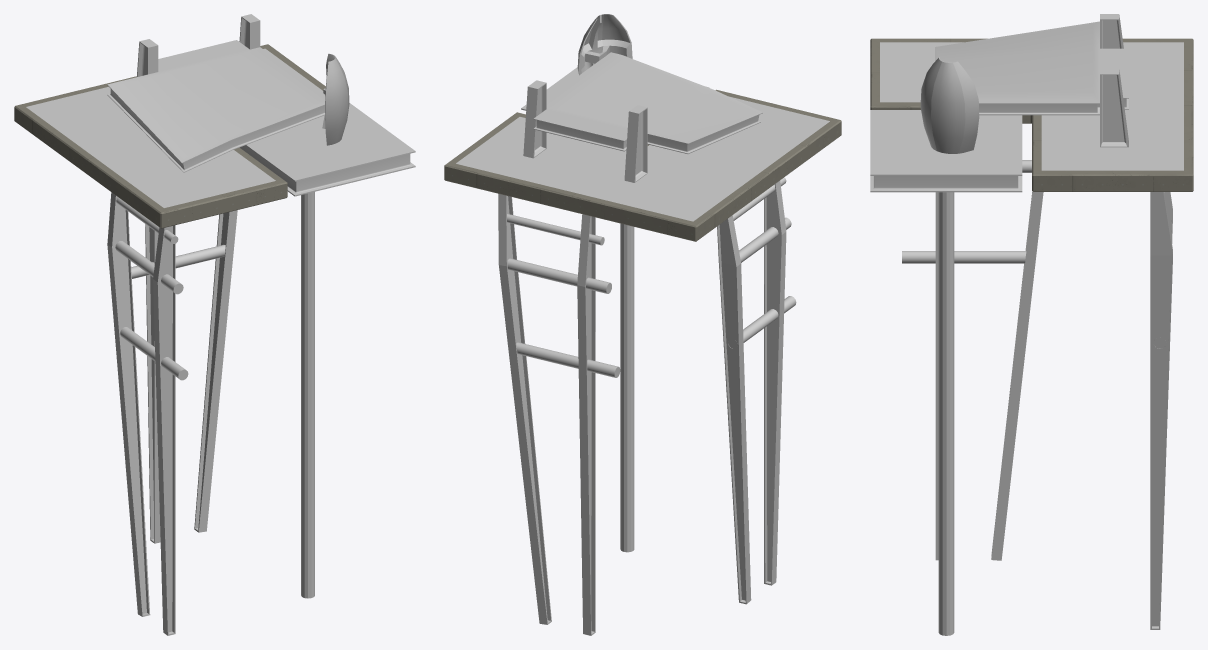
Rendered from PlatformStack1.fbx.
The picture shows the model from 3 angles, left to right: view 1: azimuth 30°, elevation 25°; view 2: azimuth 150°, elevation 25°; view 3: azimuth 270°, elevation 25°; orthographic projection. The views are drawn at different scales.
Visible parts, largest first — view 1: PlatformStack1_Floor, Platform, Canopy03, Pilar02, Pilar01; view 2: PlatformStack1_Floor, Platform, Canopy03, Pilar02, Pilar01; view 3: PlatformStack1_Floor, Platform, Canopy03, Pilar01, Pilar02.
Part boxes in pixels (x1,y1,x2,y2): PlatformStack1_Floor: (14, 44, 415, 635); Platform: (107, 40, 325, 172); Canopy03: (322, 53, 349, 145); Pilar02: (137, 39, 158, 76); Pilar01: (239, 14, 260, 49); PlatformStack1_Floor: (444, 67, 841, 635); Platform: (533, 52, 762, 153); Canopy03: (577, 14, 632, 75); Pilar02: (624, 105, 647, 182); Pilar01: (523, 80, 546, 158); PlatformStack1_Floor: (870, 38, 1193, 635); Platform: (935, 21, 1128, 115); Canopy03: (920, 57, 979, 153); Pilar01: (1100, 68, 1128, 147); Pilar02: (1100, 14, 1123, 48).
Size of what is drawn, in the model's own units: 500 by 1001 by 500.
